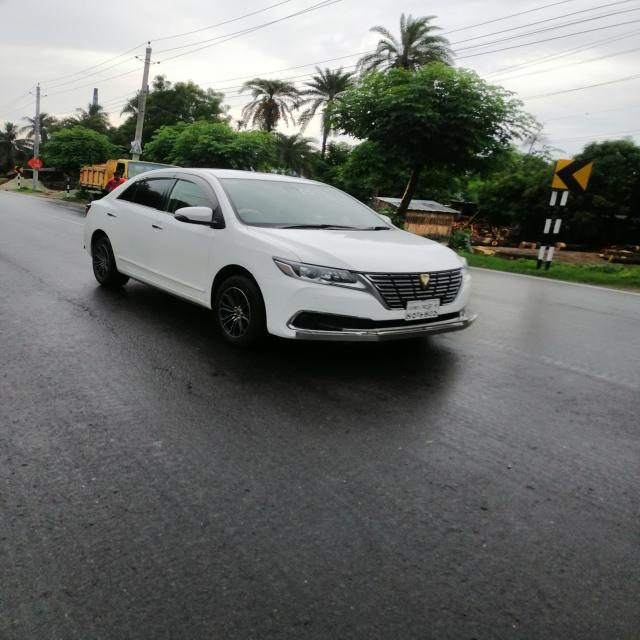Car: (80, 165, 477, 347)
